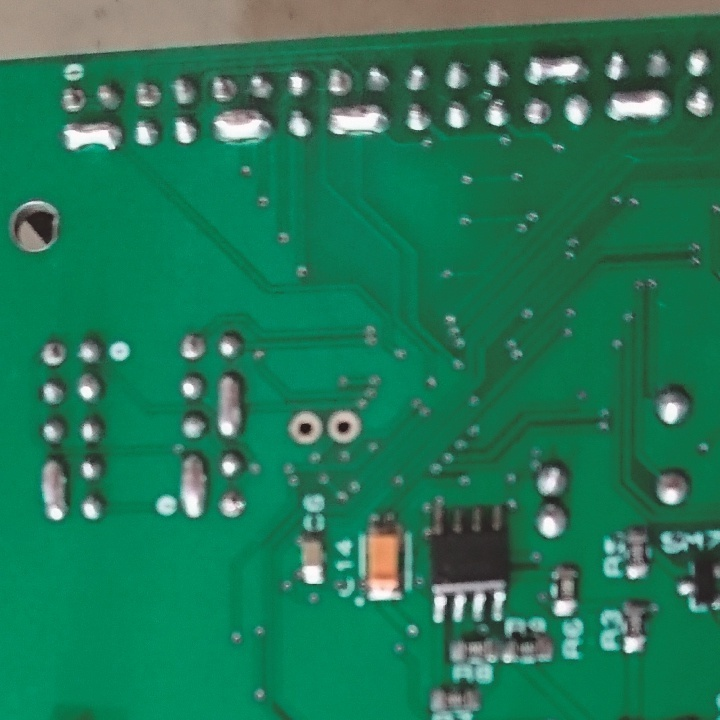F: (284, 409, 323, 446), (324, 407, 359, 447), (684, 88, 718, 122), (521, 96, 553, 128), (324, 64, 355, 96), (216, 489, 247, 520), (132, 77, 164, 107), (210, 74, 241, 103), (178, 333, 206, 364), (40, 338, 67, 369), (60, 85, 88, 112)
P: (60, 119, 124, 153), (524, 53, 587, 86), (605, 89, 667, 122), (324, 105, 384, 138), (212, 109, 270, 143), (38, 458, 69, 520), (217, 373, 244, 440), (181, 449, 184, 511)
